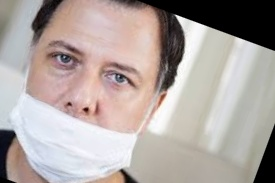mask_weared_incorrect: (13, 1, 163, 180)
